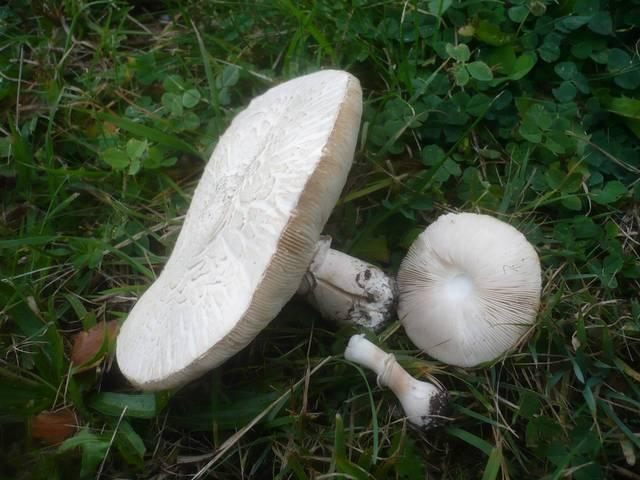poisonous_mushroom: (113, 67, 364, 392), (394, 210, 542, 369), (342, 332, 451, 431), (296, 234, 396, 332)
